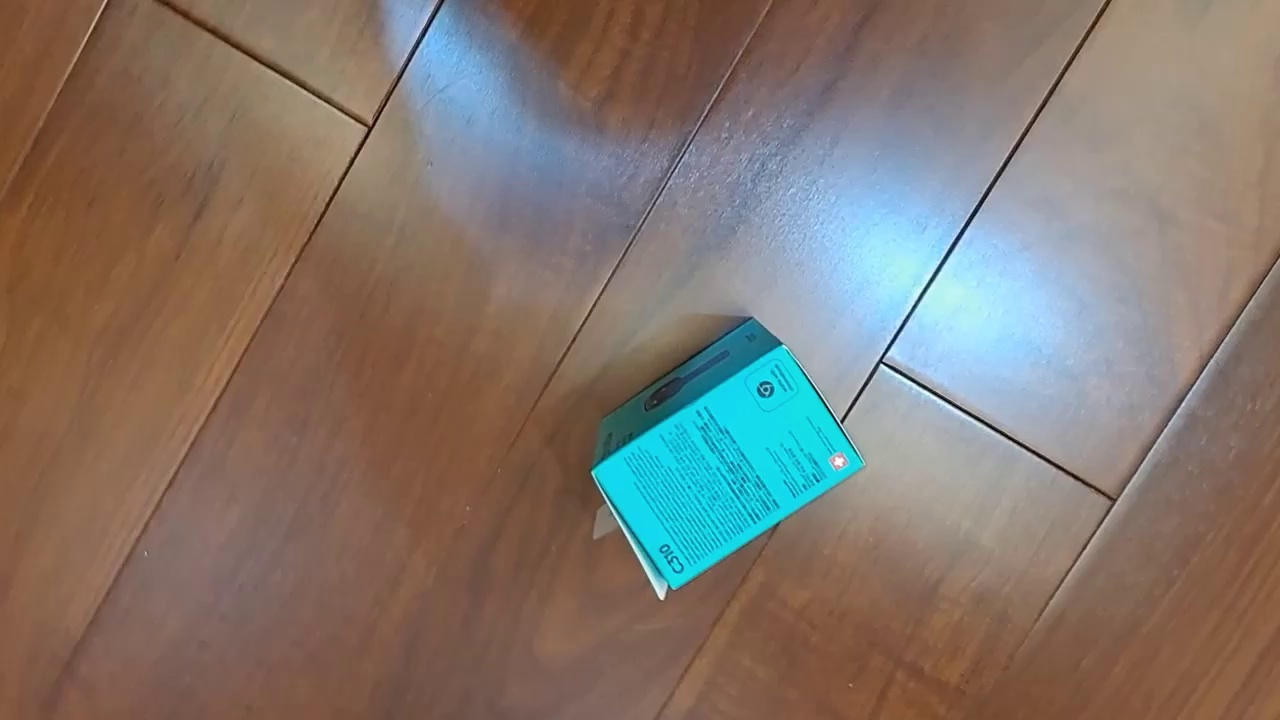webcam: (589, 316, 867, 601)
